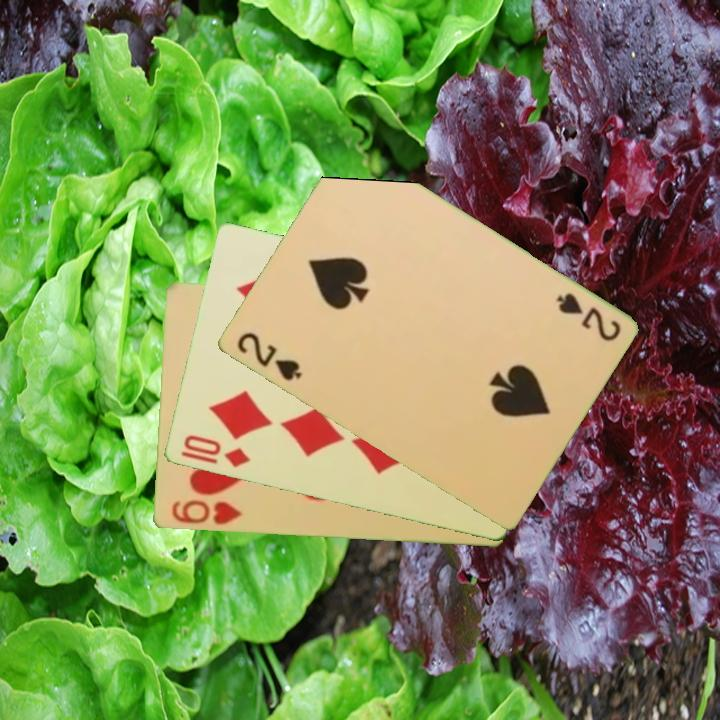10d: (176, 431, 253, 471)
2s: (232, 328, 304, 384), (552, 289, 623, 345)
6h: (168, 496, 244, 528)
